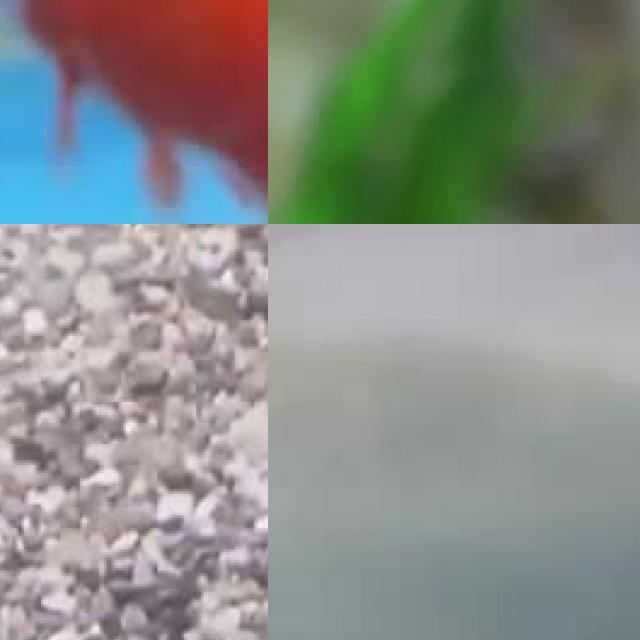fish: (268, 224, 640, 640), (0, 0, 268, 224)
